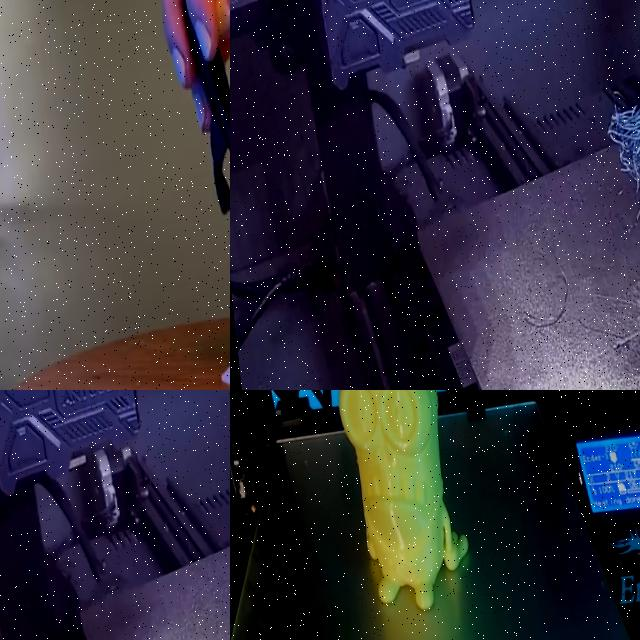spaghetti: (616, 339, 636, 355)
